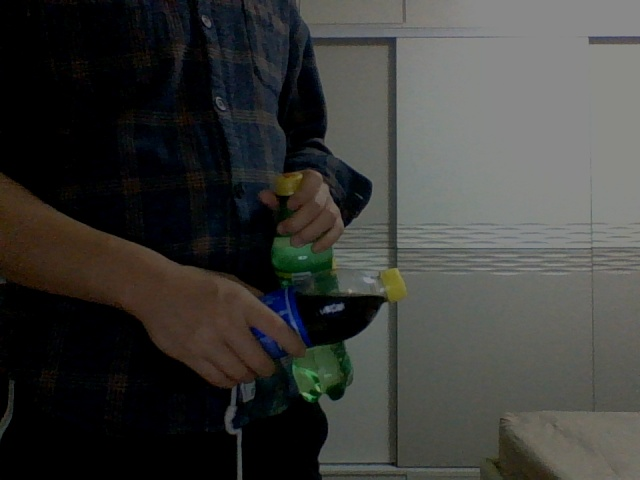Cola: (248, 267, 411, 357)
Sprite: (265, 173, 354, 402)
